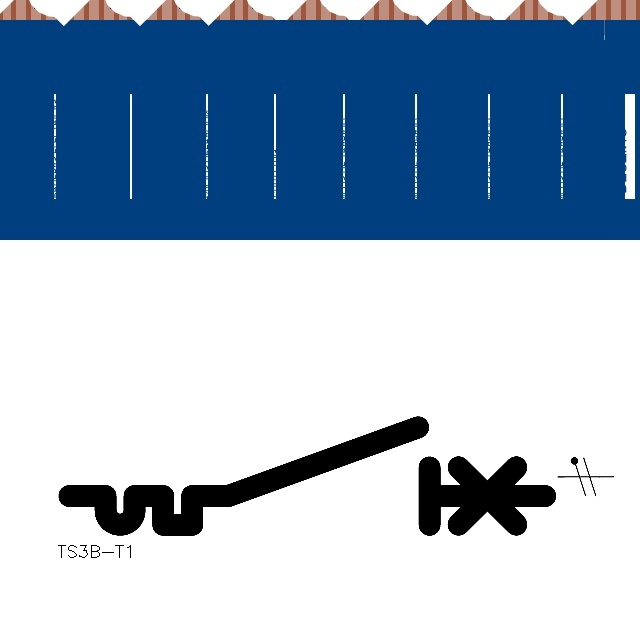interruptor_termomagnetico: (57, 415, 558, 537)
